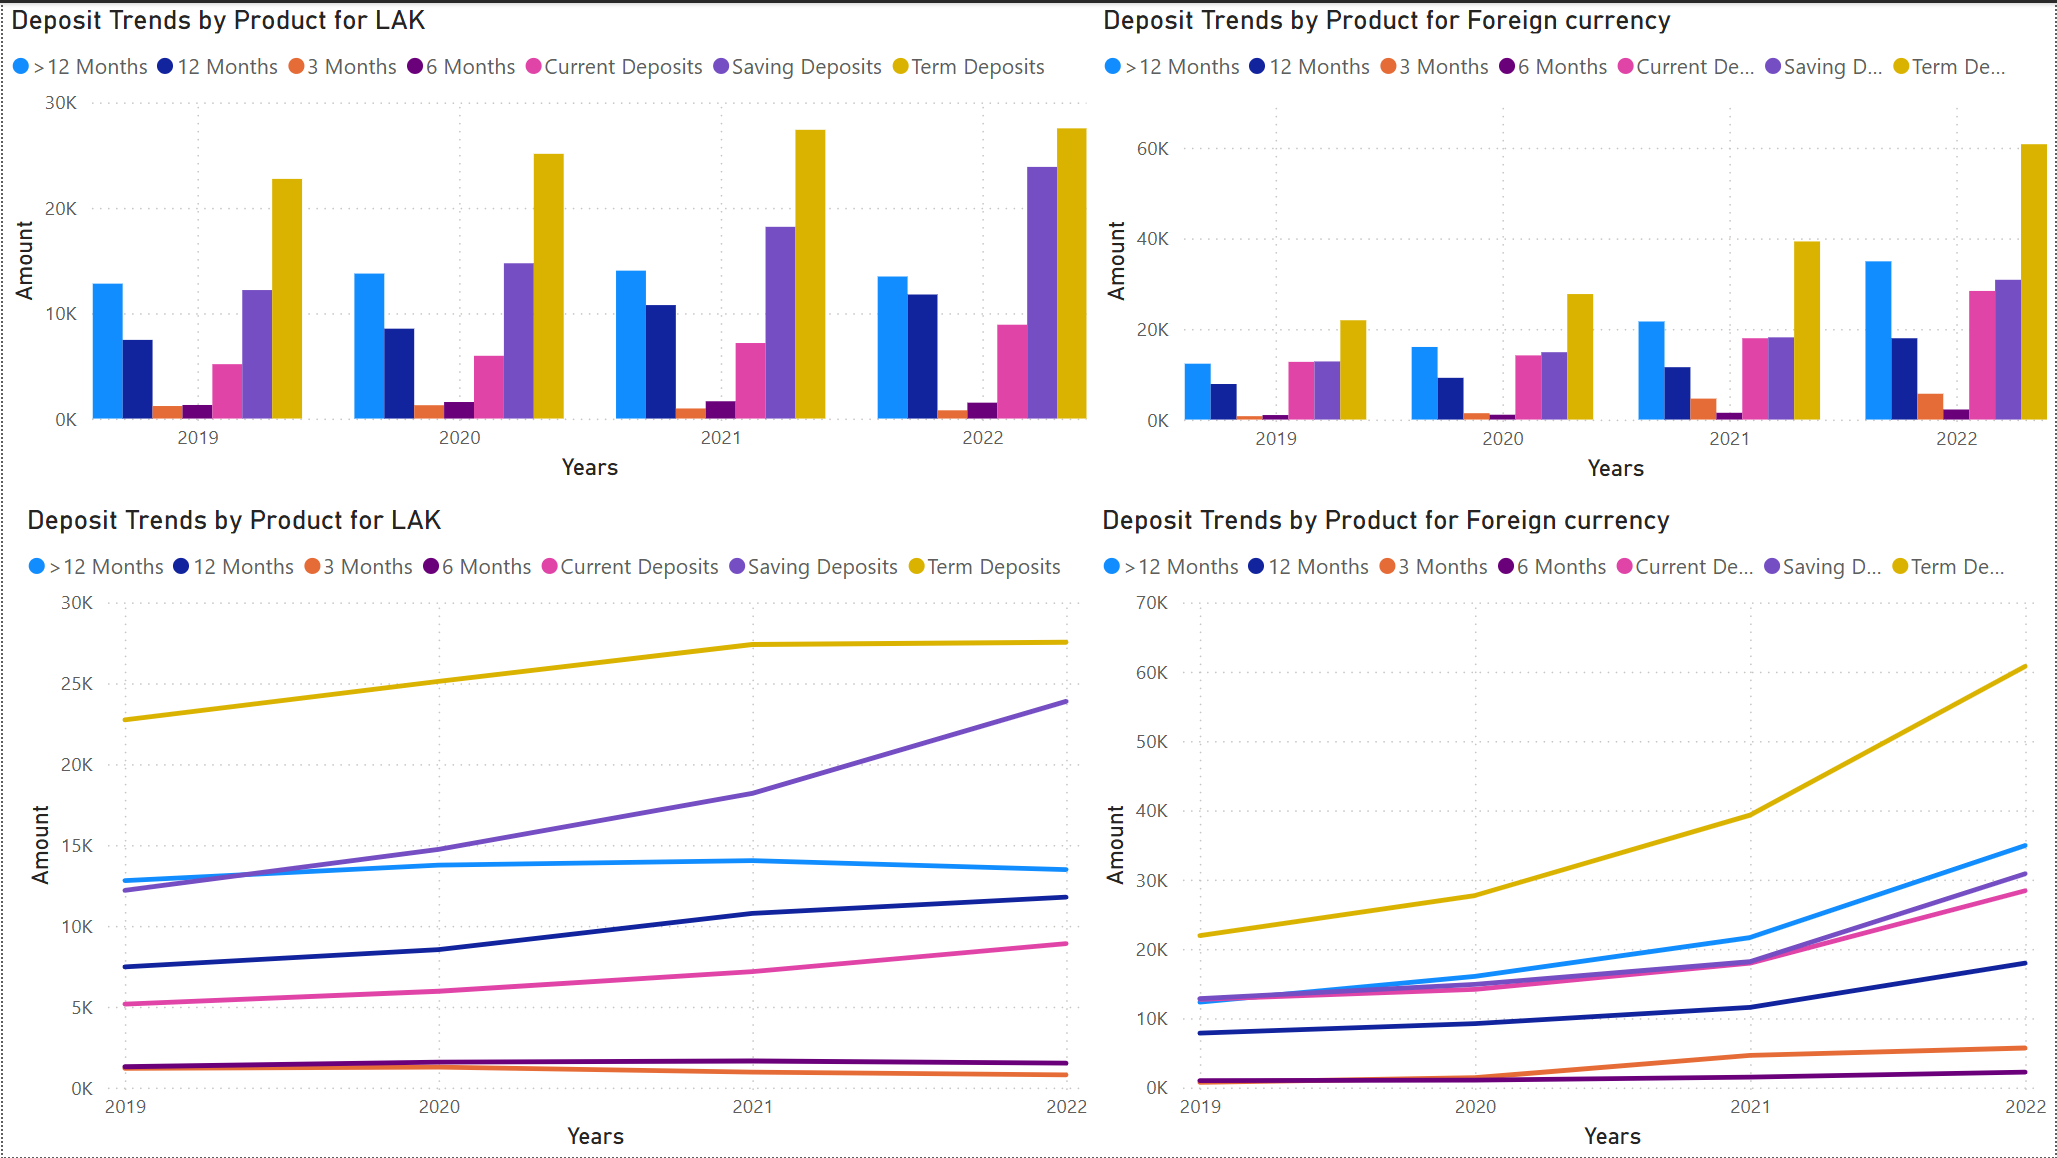

The page's visual inventory and layout, read from the dashboard file:
{"tool":"powerbi","page":{"name":"Deposit Structure and Trends of Commercial  Bank","canvas":[1280,720],"ordinal":1},"visuals":[{"type":"clusteredColumnChart","title":"Deposit Trends by Product for LAK","fields":{"Series":["comm banks deposit.product"],"Category":["comm banks deposit.year"],"Y":["Sum(comm banks deposit.amnt)"]},"box":[0,0,681.3,302.6],"z":0},{"type":"lineChart","title":"Deposit Trends by Product for LAK","fields":{"Category":["comm banks deposit.year"],"Y":["Sum(comm banks deposit.amnt)"],"Series":["comm banks deposit.product"]},"box":[10,312,671.3,408],"z":1000},{"type":"clusteredColumnChart","title":"Deposit Trends by Product for Foreign currency ","fields":{"Y":["Sum(comm banks deposit.amnt)"],"Category":["comm banks deposit.year"],"Series":["comm banks deposit.product"]},"box":[681.3,0,599,303.2],"z":2000},{"type":"lineChart","title":"Deposit Trends by Product for Foreign currency ","fields":{"Category":["comm banks deposit.year"],"Y":["Sum(comm banks deposit.amnt)"],"Series":["comm banks deposit.product"]},"box":[681,312,599,408],"z":3000}]}

Visuals, with their boxes in screenshot pixels (x1, y1, x2, y2), scaled from the page's 1280x720 canvas onto the 2057x1158 screenshot:
"Deposit Trends by Product for LAK" clusteredColumnChart: BBox(0, 0, 1095, 487)
"Deposit Trends by Product for LAK" lineChart: BBox(16, 502, 1095, 1157)
"Deposit Trends by Product for Foreign currency " clusteredColumnChart: BBox(1095, 0, 2056, 488)
"Deposit Trends by Product for Foreign currency " lineChart: BBox(1094, 502, 2056, 1157)
